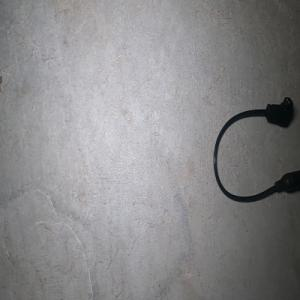Wire: (213, 96, 300, 202)
